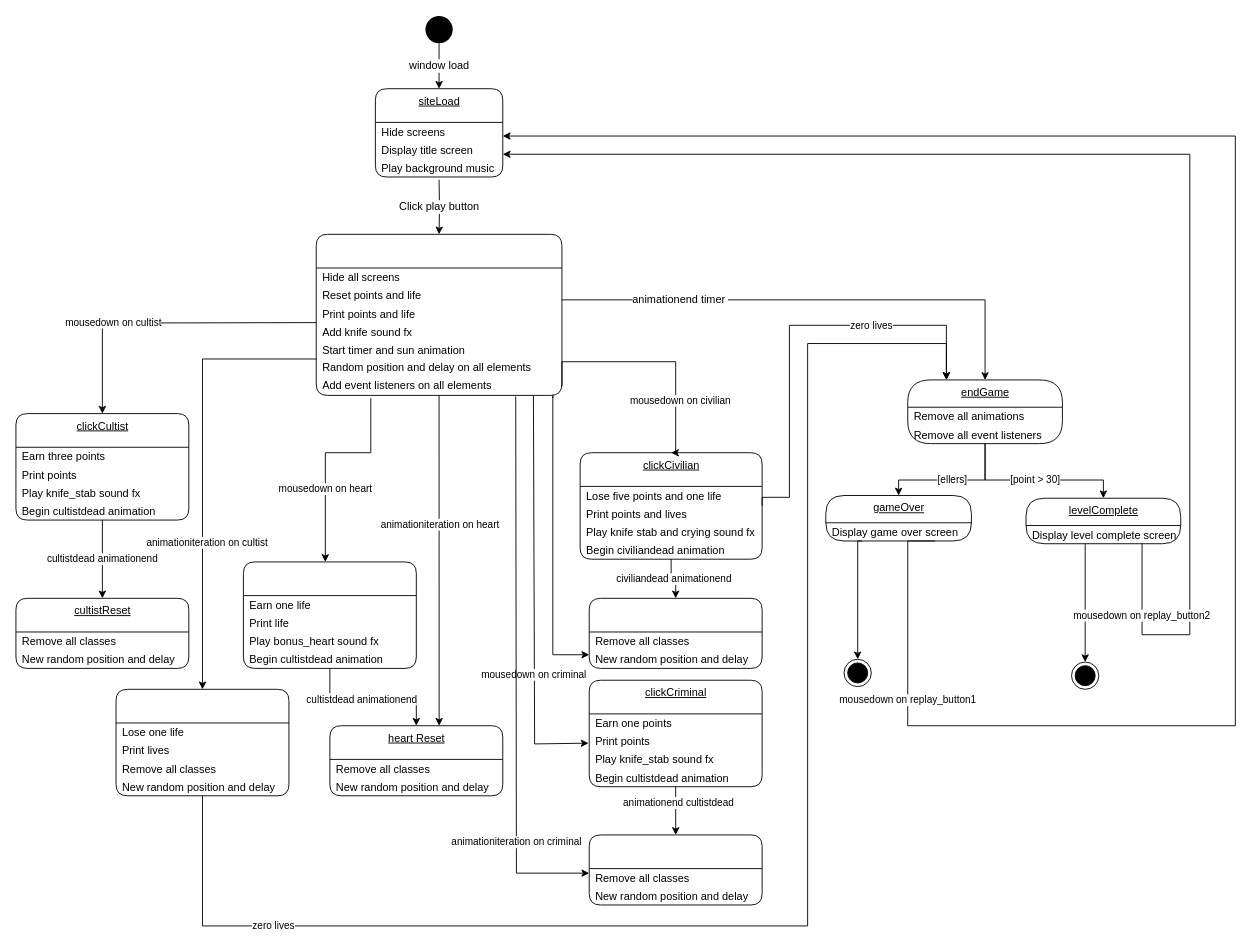
Image size: 1259x949. Some labels were removed from this diagram. The shapes that lost their labels are listed below. From the top down, each one's box as (x1, y1, x2, y2) in pixels, then its label:
(315, 233, 562, 395): startGame
(243, 561, 416, 668): clickHeart
(588, 597, 762, 668): civilianReset
(115, 688, 289, 796): cultistResetMiss
(588, 834, 762, 905): criminalReset
